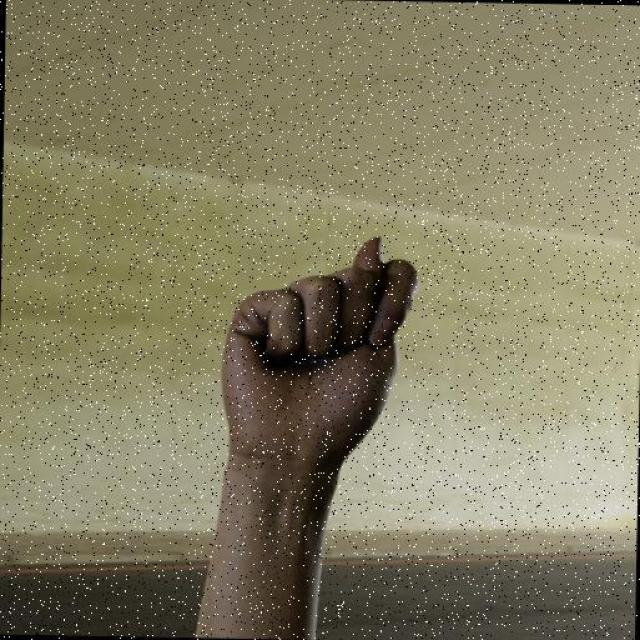T: (213, 230, 427, 480)
